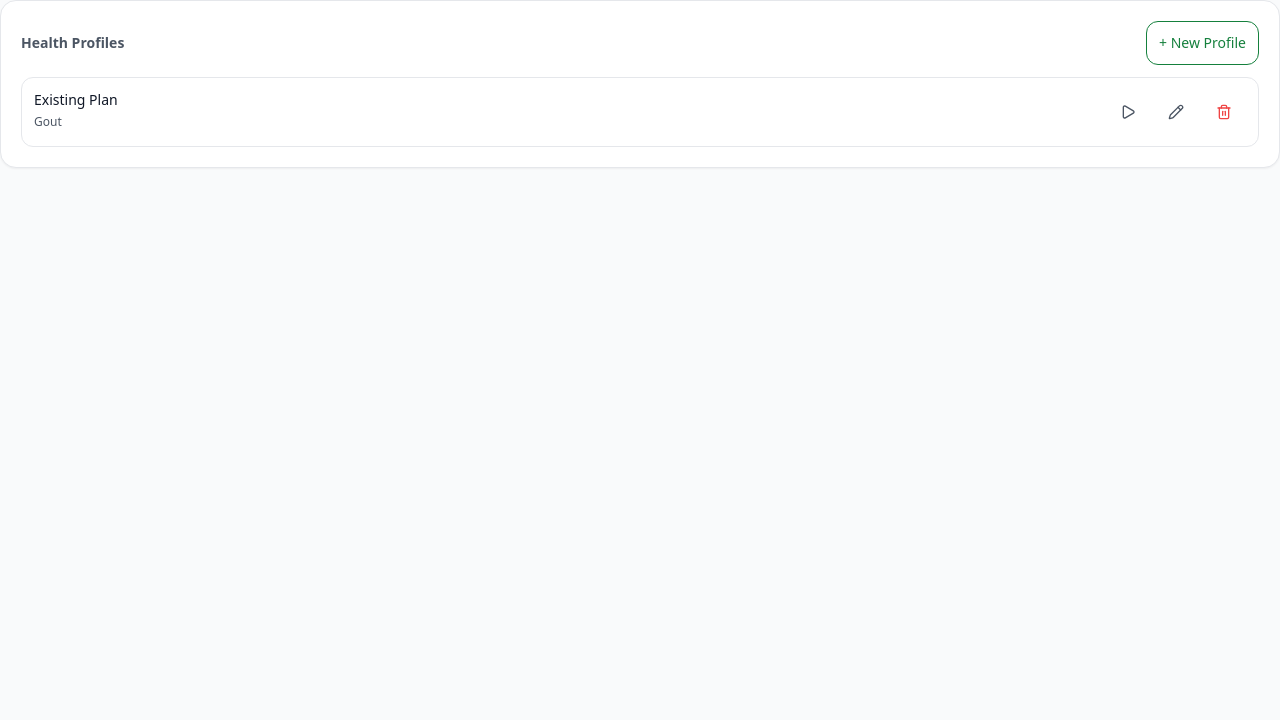
HealthProfileSection › opens edit form with pre-filled values
Expected: the text "Existing Plan" is shown, top-left (34, 90), bottom-right (118, 110)
Note: Click edit button (✏️)
Click the button named "Edit" at (1176, 112), box top-left (1154, 90), bottom-right (1198, 134)
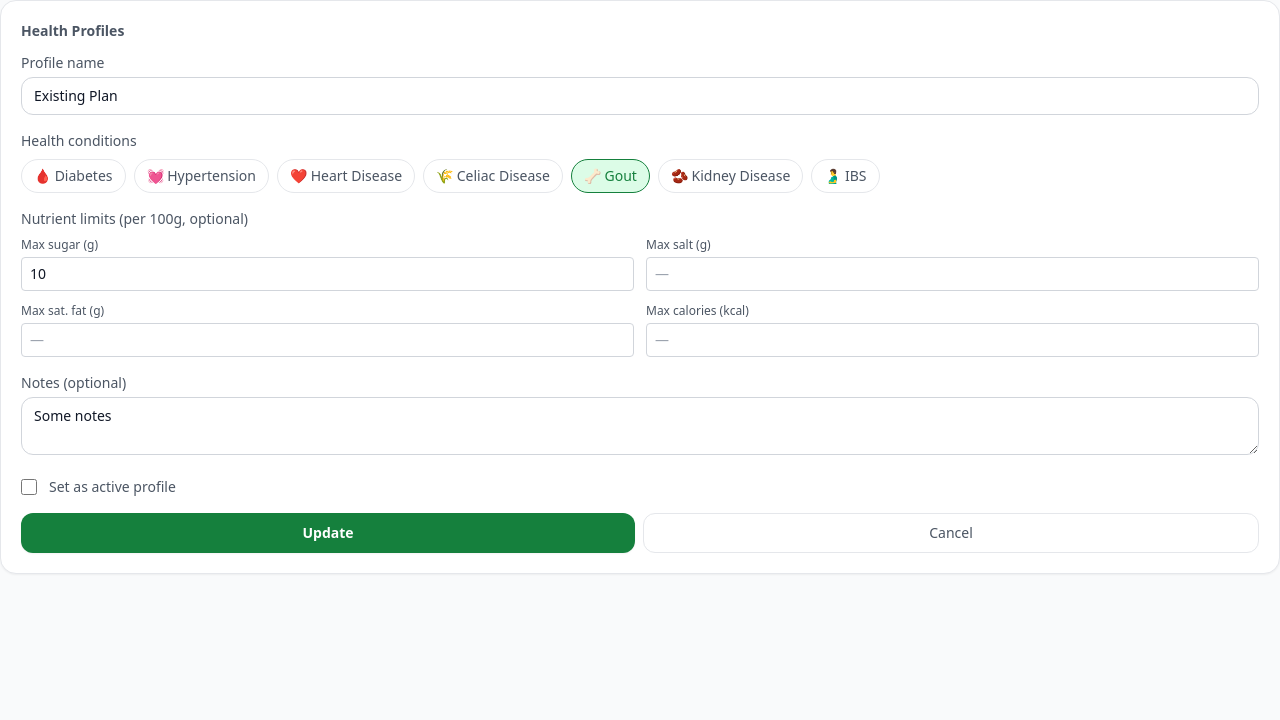
Expected: the field labelled "Profile name" holds "Existing Plan", top-left (21, 77), bottom-right (1259, 115)
Expected: the text box labelled "Notes (optional)" holds "Some notes", top-left (21, 397), bottom-right (1259, 455)
